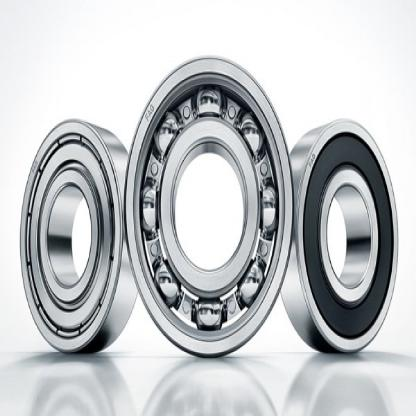FOD: (123, 46, 296, 356), (13, 103, 138, 363), (272, 116, 402, 364)
